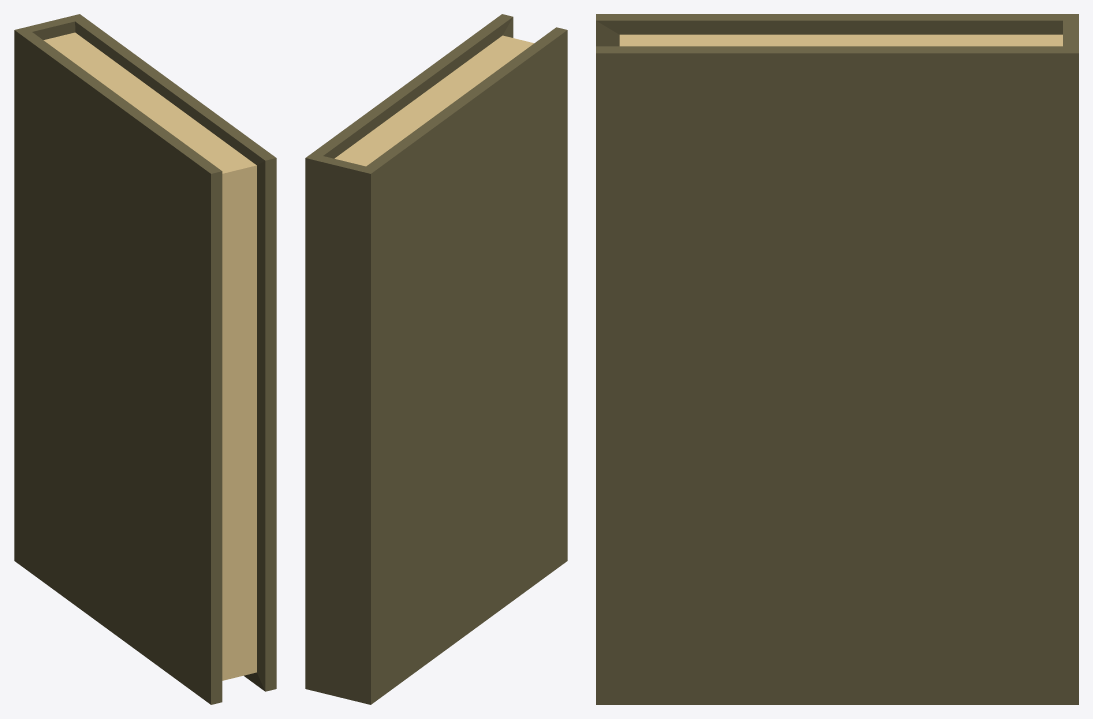
The model's file is Book1_049.fbx.
The picture shows the model from 3 angles, left to right: view 1: azimuth 30°, elevation 25°; view 2: azimuth 150°, elevation 25°; view 3: azimuth 270°, elevation 25°; orthographic projection. The views are drawn at different scales.
Parts seen in each view (by area): view 1: Book1.049; view 2: Book1.049; view 3: Book1.049.
Part boxes in pixels (x1=…): Book1.049: x1=14, y1=14, x2=276, y2=704; Book1.049: x1=305, y1=14, x2=567, y2=704; Book1.049: x1=596, y1=14, x2=1078, y2=704.
Bounding box in the file's own units: 5.69 × 44.08 × 29.6.
